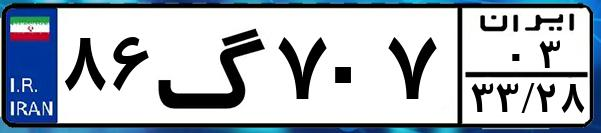0: (330, 28, 385, 110), (508, 27, 537, 80)
2: (535, 70, 560, 125)
3: (537, 27, 568, 80), (470, 70, 495, 125), (495, 70, 520, 125)
6: (110, 28, 156, 98)
7: (270, 28, 330, 110), (385, 28, 445, 110)
8: (57, 26, 110, 100), (560, 70, 590, 125)
گ: (156, 12, 270, 120)
